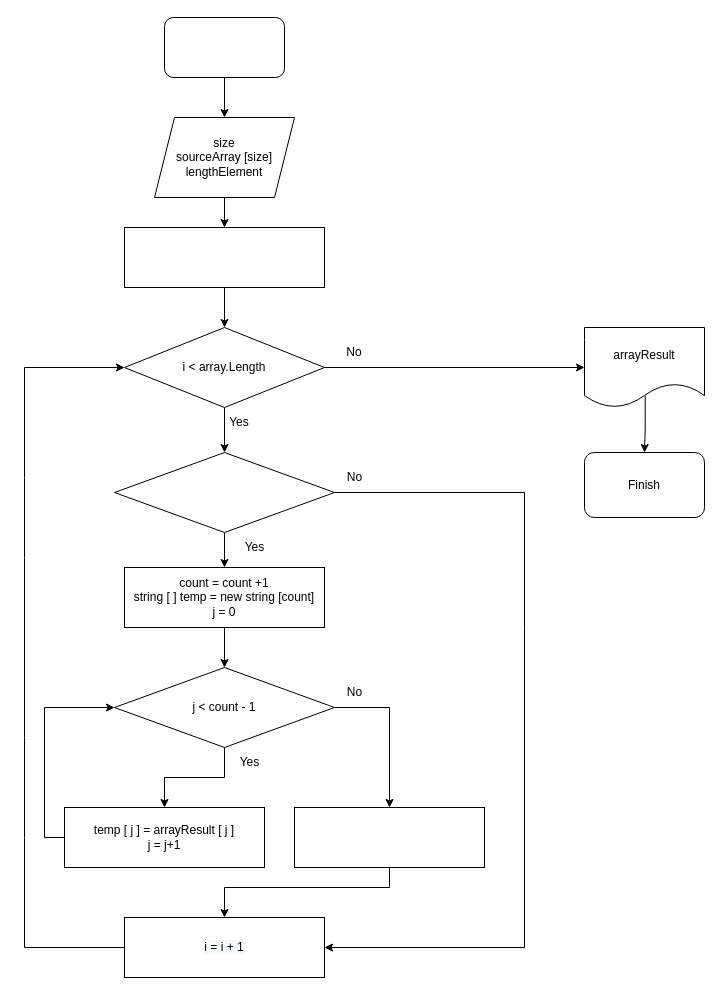
Image size: 722x995. Some labels were removed from this diagram. The centre of each missing label's shape, as x and y in pixels:
"array [i].Length <= lengthElement" belongs at point (224, 492).
"arrayResult = temp arrayResult [count - 1] = array [ i ]" belongs at point (389, 837).
"count = 0 string [ ] arrayResult = { } i = 0" belongs at point (224, 257).
"start" belongs at point (224, 47).
